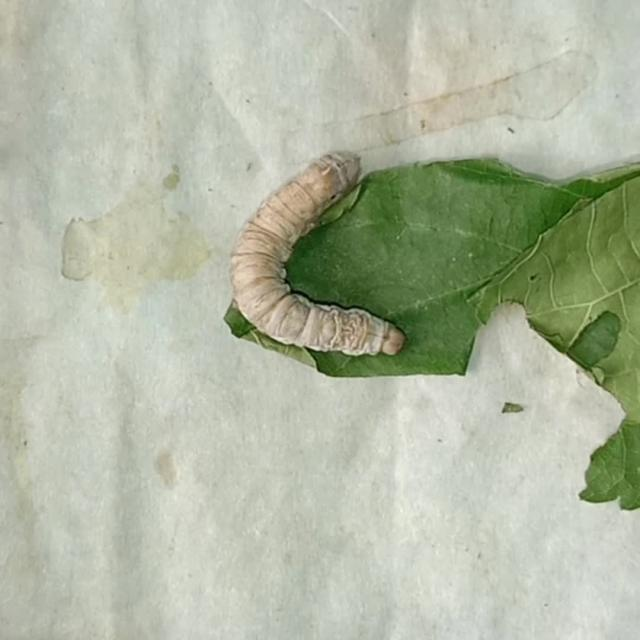Grasserie: (216, 119, 437, 404)
